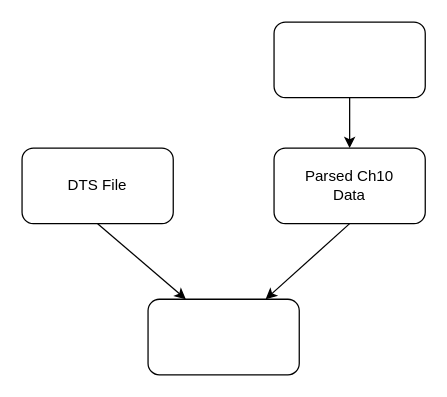
The diagram is 447 pixels wide and 397 high, and some of its shapes have lost their labels. The shapes that lost their labels are listed below. From the top down, each one's box as (x1, y1, x2, y2) in pixels, then its label:
(273, 21, 425, 98): Chapter 10
(147, 298, 299, 375): Translated Ch10 Data
